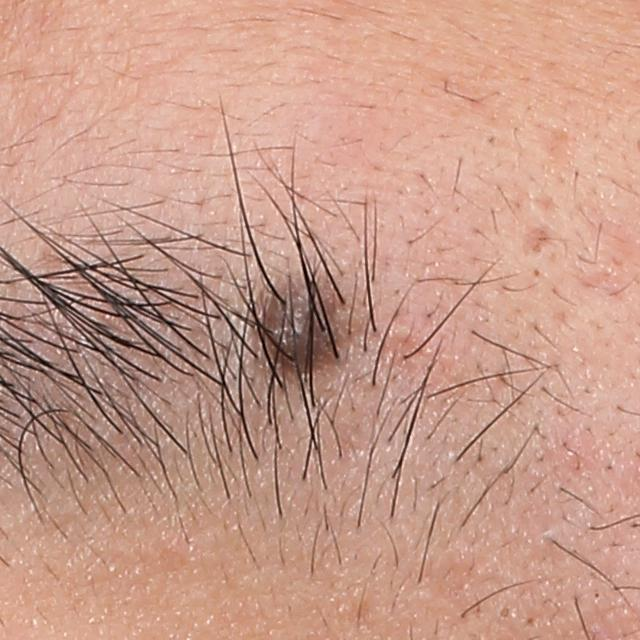atrophic_scar: (541, 127, 579, 175), (525, 226, 557, 256)
comedo: (496, 603, 511, 623)
nevus: (254, 272, 338, 376)
